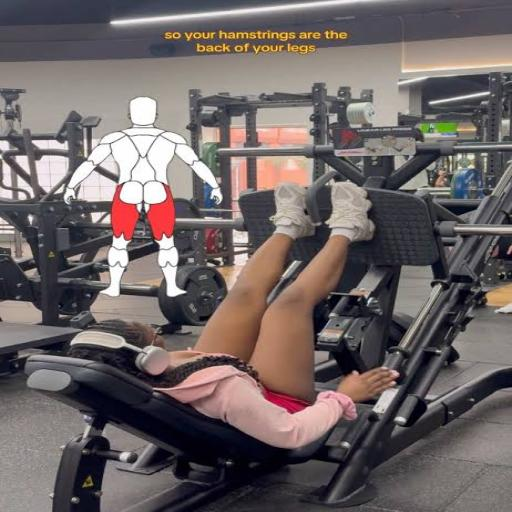Leg Press: (90, 166, 505, 472)
